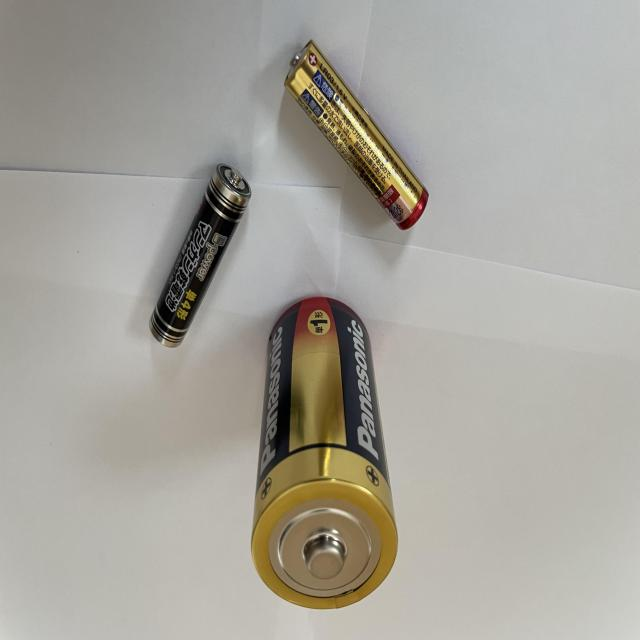AAA: (284, 38, 429, 230), (148, 161, 253, 348)
